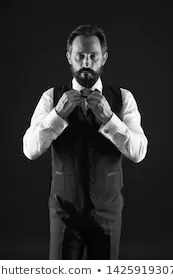F_dress pants: (52, 190, 127, 259)
F_shirt: (24, 83, 146, 192)
